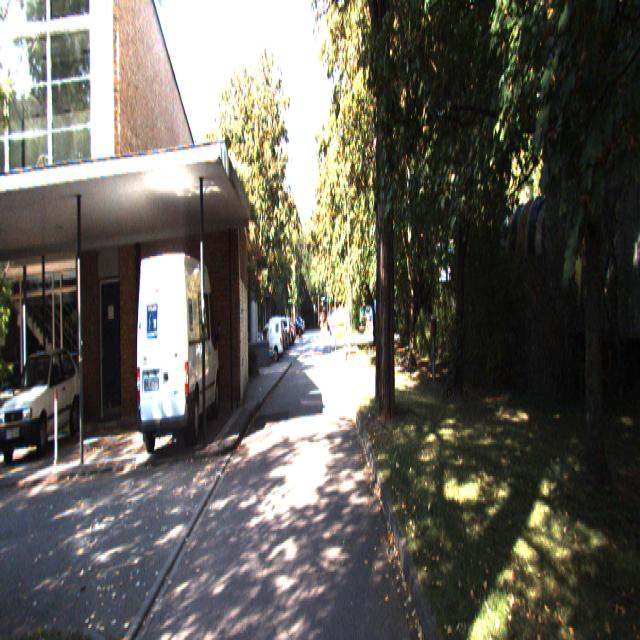Car: (138, 246, 220, 456), (0, 345, 84, 464)
